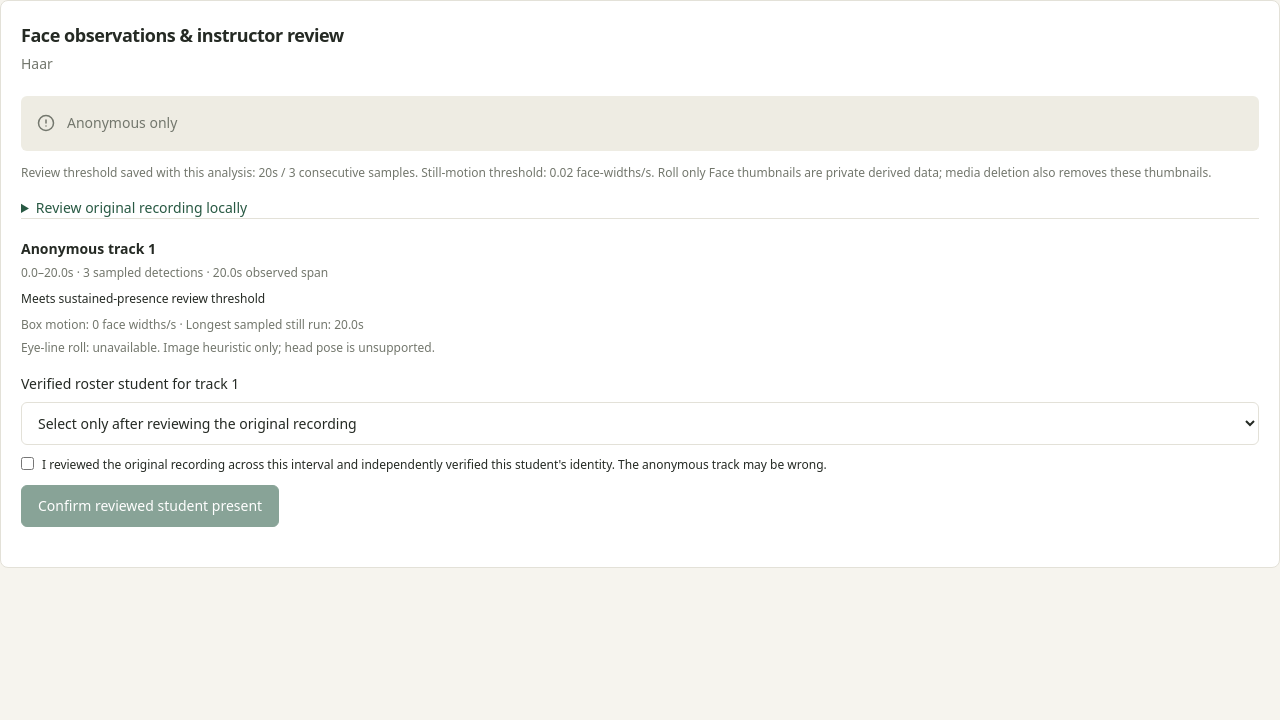
Test: presence review requires a roster choice and explicit identity confirmation
Expected: the button "Confirm reviewed student present" is disabled, [21, 484, 279, 526]
Select "Test learner · TEST1" in the dropdown labelled "Verified roster student for track 1" at (640, 423), box [21, 402, 1259, 444]
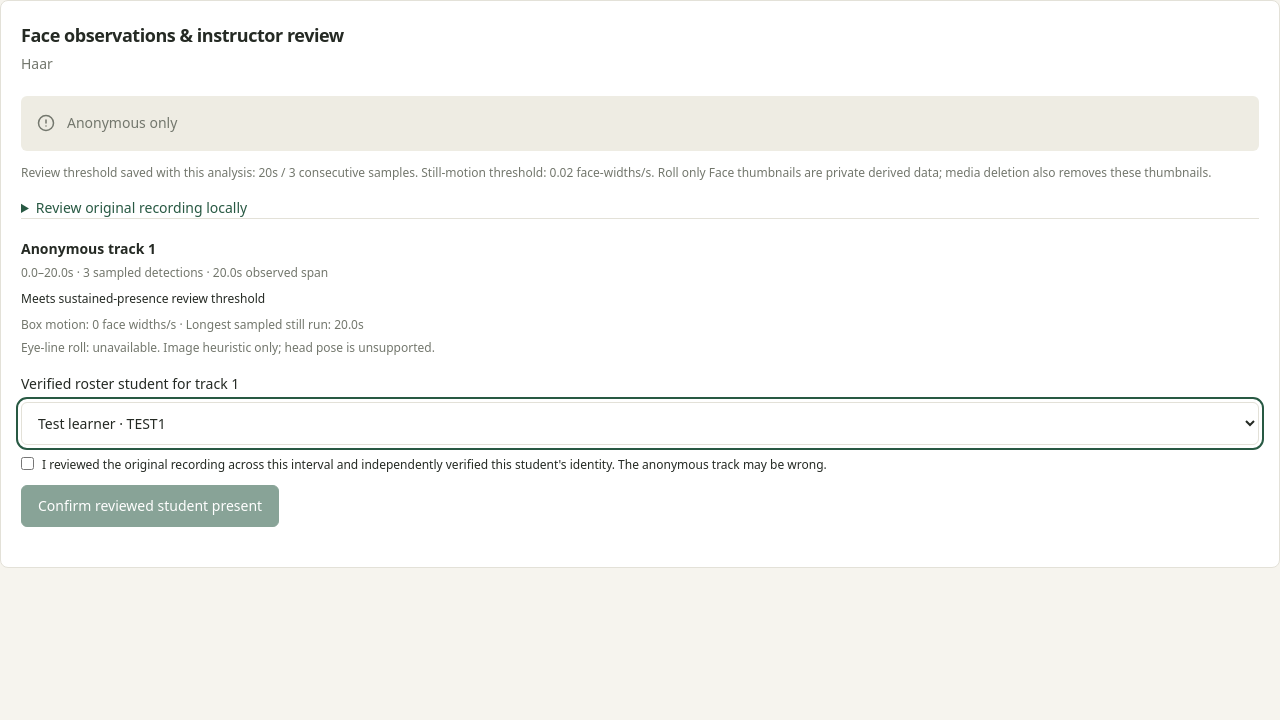
Expected: the button "Confirm reviewed student present" is disabled, [21, 484, 279, 526]
Click the checkbox at (28, 463), box [21, 456, 34, 470]
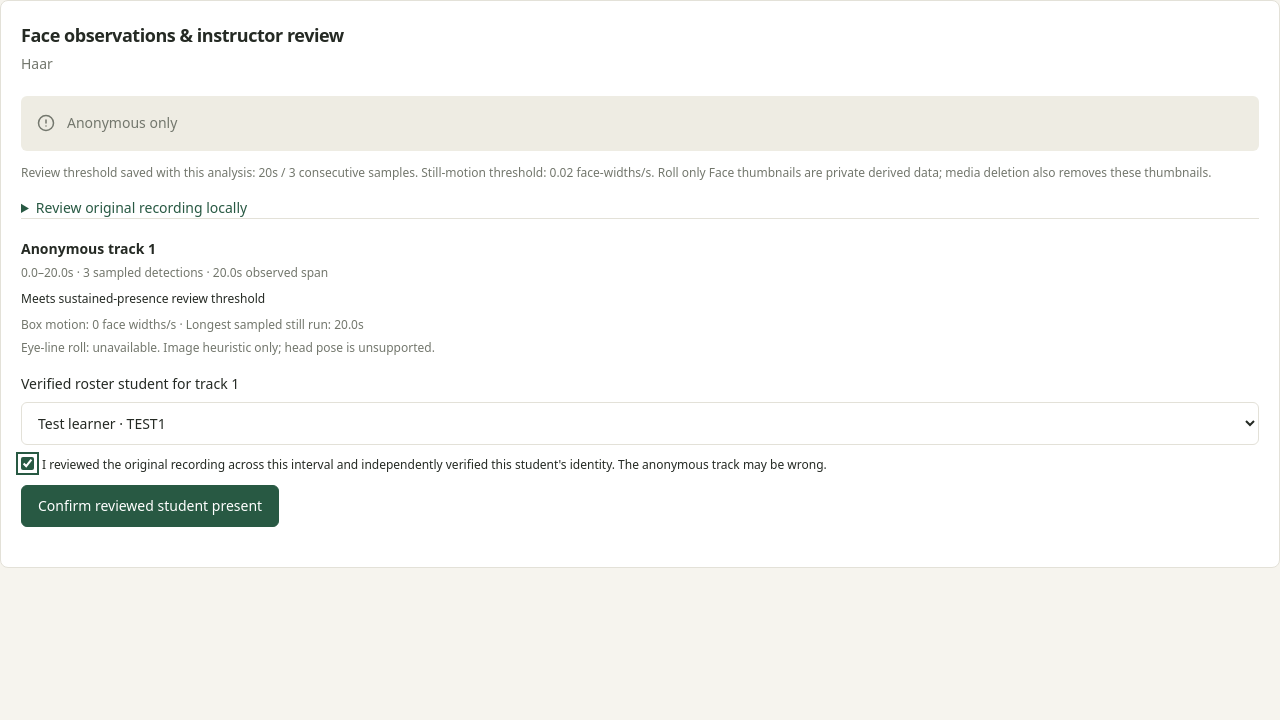
Click the button "Confirm reviewed student present" at (150, 506), box [21, 484, 279, 526]
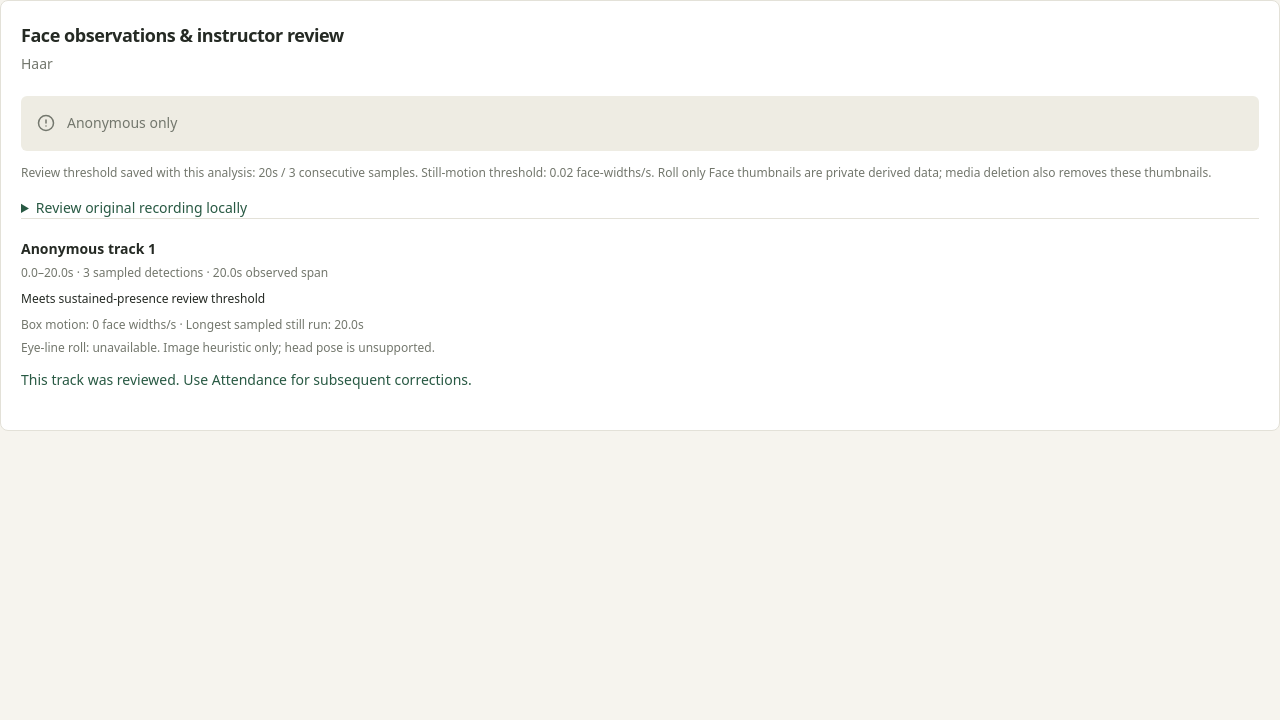
Expected: the text "This track was reviewed. Use Attendance for subsequent corrections." is shown, [21, 370, 472, 388]
